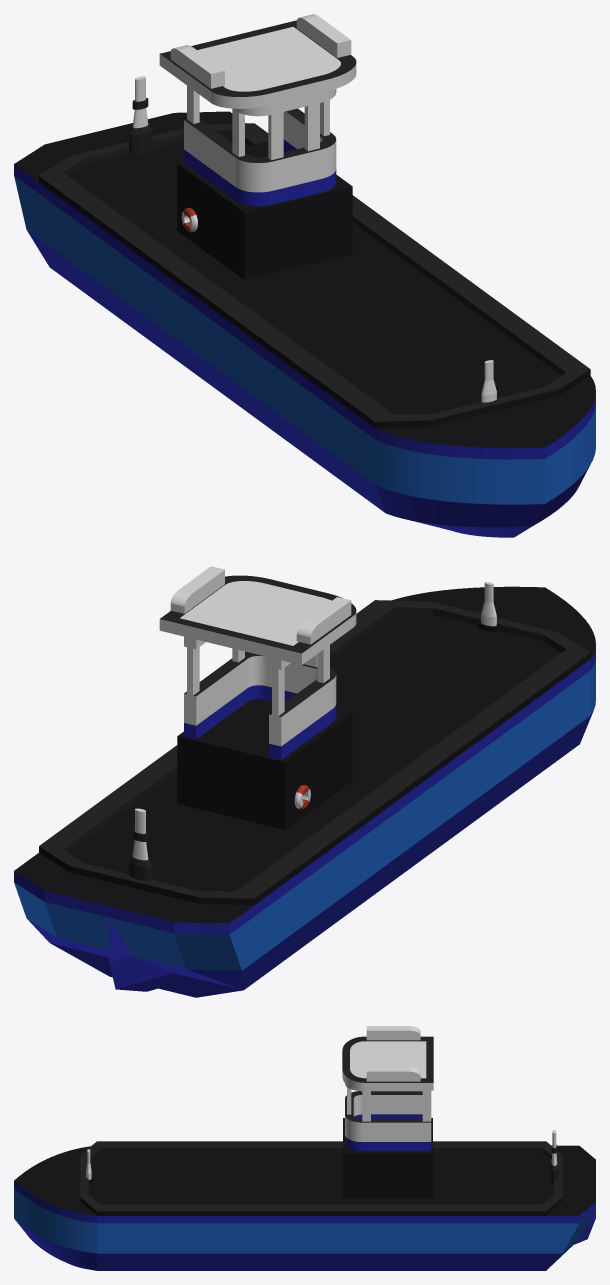
The model's file is Cargo-Ship5.obj.
3 renders of one model, top to bottom at view 1: azimuth 30°, elevation 25°; view 2: azimuth 150°, elevation 25°; view 3: azimuth 270°, elevation 25°, orthographic. The views are drawn at different scales.
Visible parts, largest first — view 1: mergedBlocks; view 2: mergedBlocks; view 3: mergedBlocks.
Boxes of the visible parts, bbox=[...] form: mergedBlocks: bbox=[14, 14, 595, 537]; mergedBlocks: bbox=[14, 566, 595, 997]; mergedBlocks: bbox=[14, 1026, 595, 1270].
Size of the model in its own units: 2 by 2.75 by 7.
